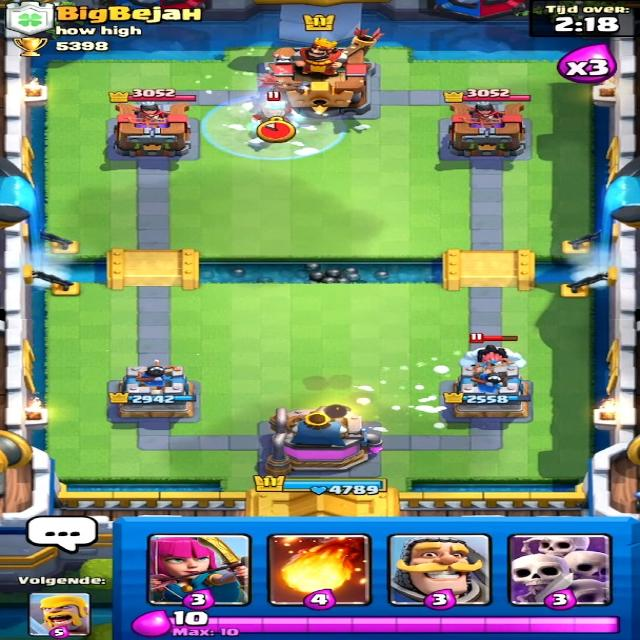Enemy_Ice_Golem_Troop: (449, 343, 525, 372)
Fireball_Card: (274, 536, 363, 598)
